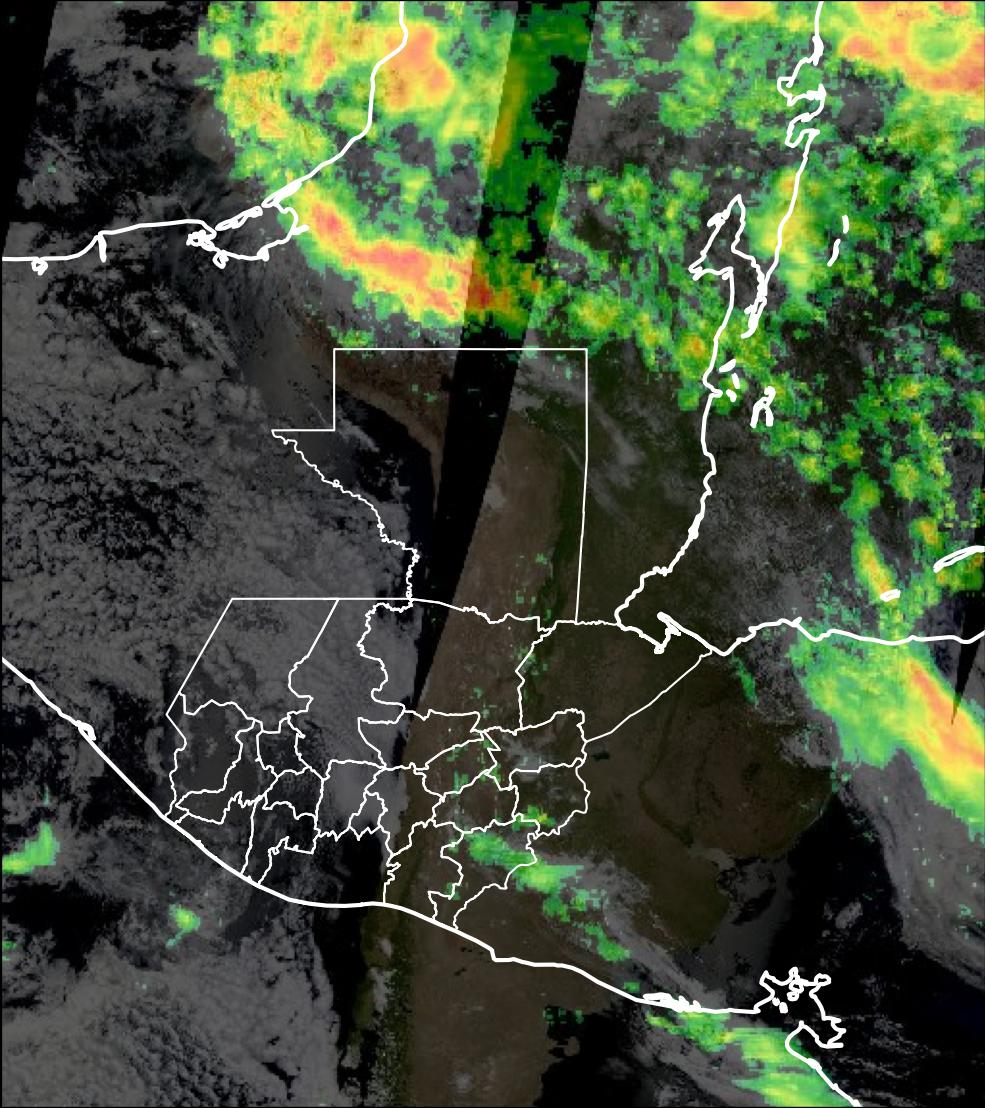precipitacion: (316, 205, 506, 330), (846, 1, 985, 134), (909, 659, 985, 774), (380, 23, 459, 117)
